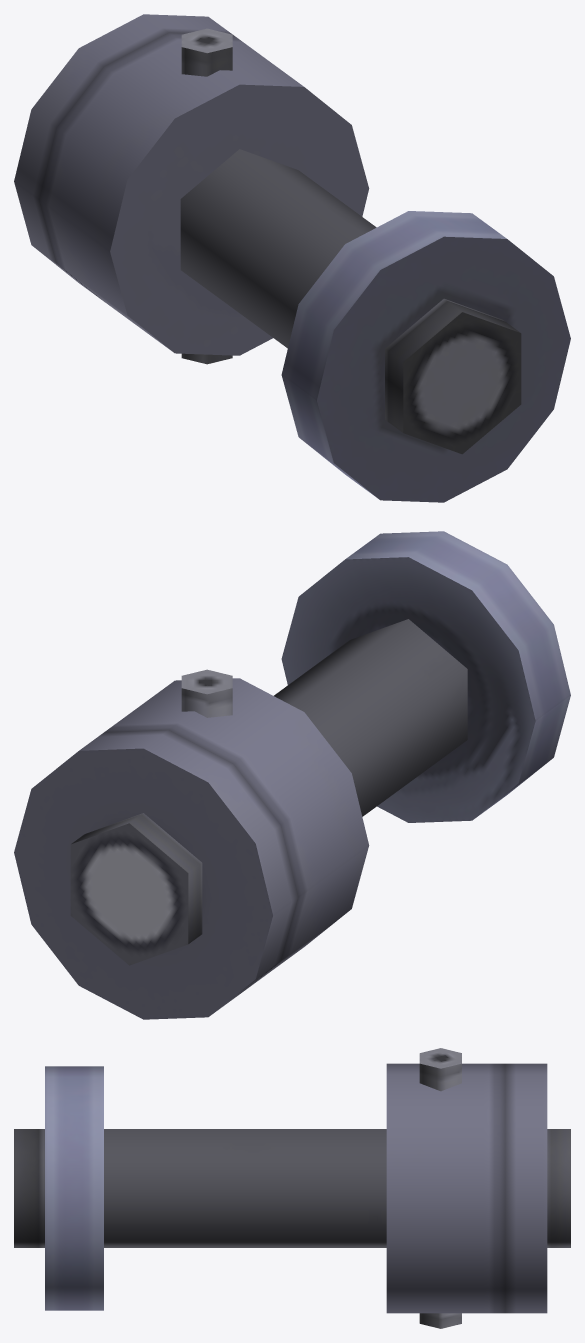
The model's file is obj_interactive_suspensionsport_off.fbx.
The picture shows the model from 3 angles, top to bottom: view 1: azimuth 30°, elevation 25°; view 2: azimuth 150°, elevation 25°; view 3: azimuth 270°, elevation 25°; orthographic projection. The views are drawn at different scales.
Parts seen in each view (by area): view 1: obj_interactive_suspensionsport_off_lod0; view 2: obj_interactive_suspensionsport_off_lod0; view 3: obj_interactive_suspensionsport_off_lod0.
Part boxes in pixels (bbox=[...]): obj_interactive_suspensionsport_off_lod0: bbox=[14, 14, 570, 502]; obj_interactive_suspensionsport_off_lod0: bbox=[14, 531, 570, 1019]; obj_interactive_suspensionsport_off_lod0: bbox=[14, 1048, 570, 1328].
Size of the model in its own units: 0.9959 by 1.14 by 2.22.
1 material, 1 textured.
